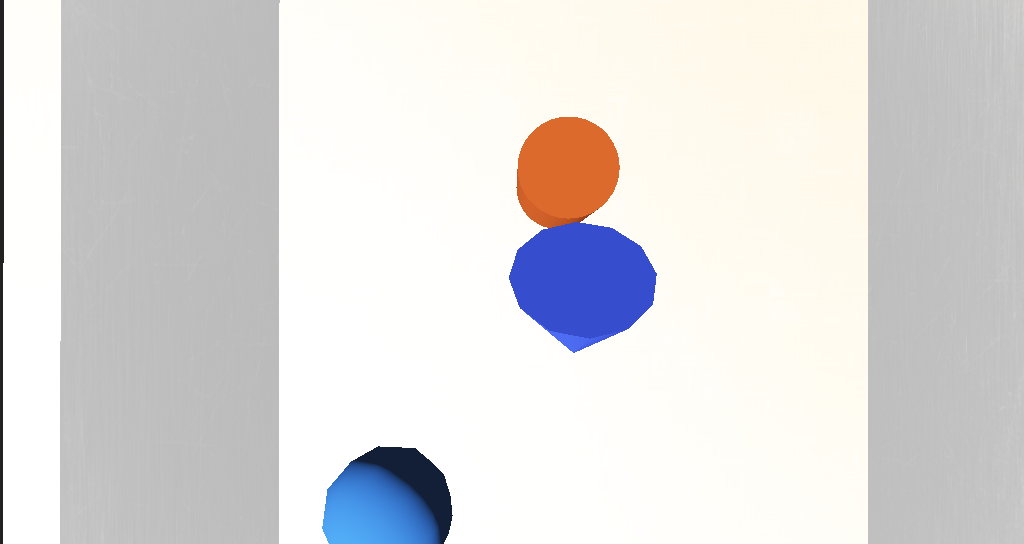cone: (475, 215, 522, 253)
cylinder: (475, 253, 536, 320)
sphere: (377, 332, 445, 375)
